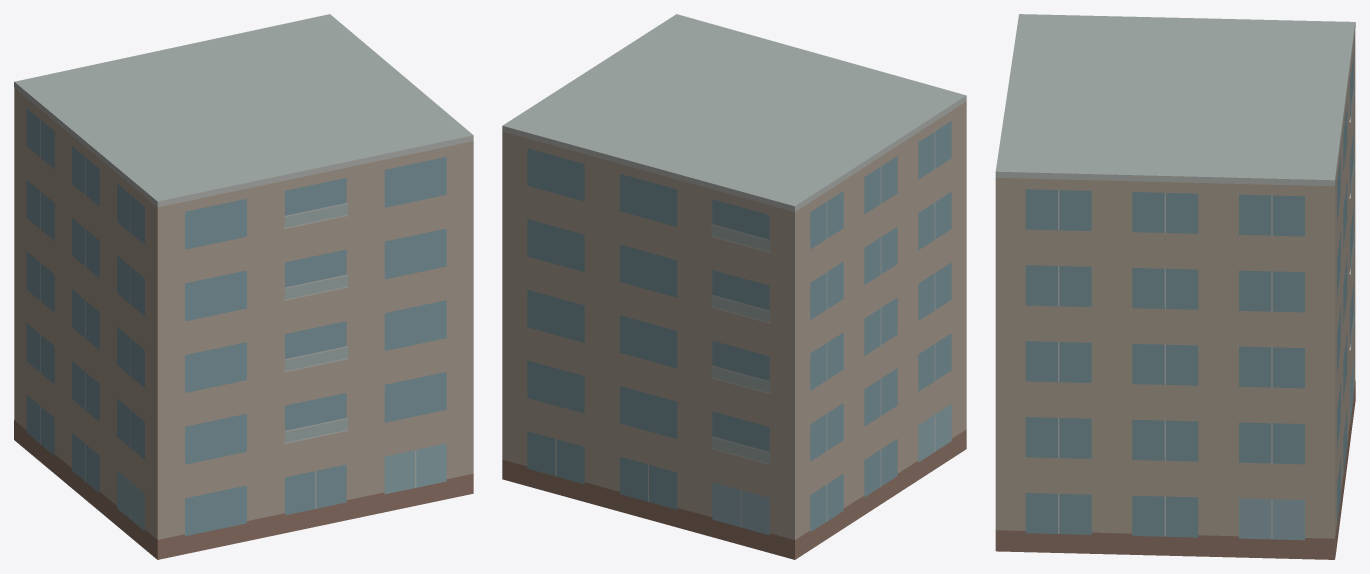
Rendered from survey-upis-32882764.glb.
3 renders of one model, left to right at view 1: azimuth 30°, elevation 25°; view 2: azimuth 150°, elevation 25°; view 3: azimuth 270°, elevation 25°, orthographic. The views are drawn at different scales.
Parts seen in each view (by area): view 1: survey-upis-32882764.tmp; view 2: survey-upis-32882764.tmp; view 3: survey-upis-32882764.tmp.
Part boxes in pixels (box(x1,y1,x2,y2)): survey-upis-32882764.tmp: box(14, 14, 473, 559); survey-upis-32882764.tmp: box(502, 14, 966, 559); survey-upis-32882764.tmp: box(995, 14, 1355, 559).
Bounding box in the file's own units: 14.24 × 15.15 × 13.02.
